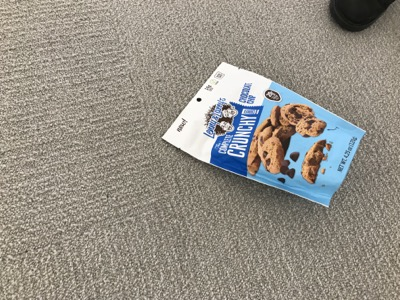cookie: (158, 61, 366, 211)
